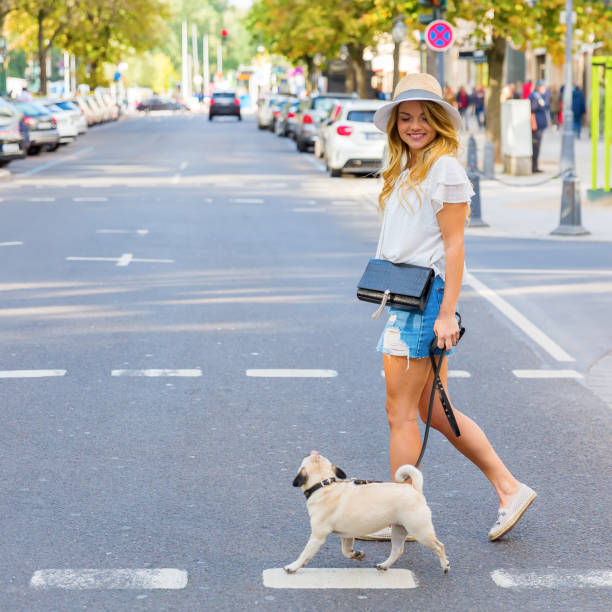kopek: (291, 448, 459, 585)
yaya: (338, 62, 539, 531)
